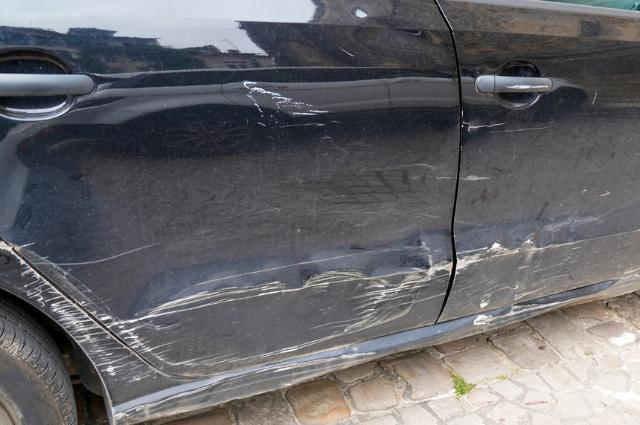Door: (12, 59, 440, 363), (454, 211, 593, 313)
